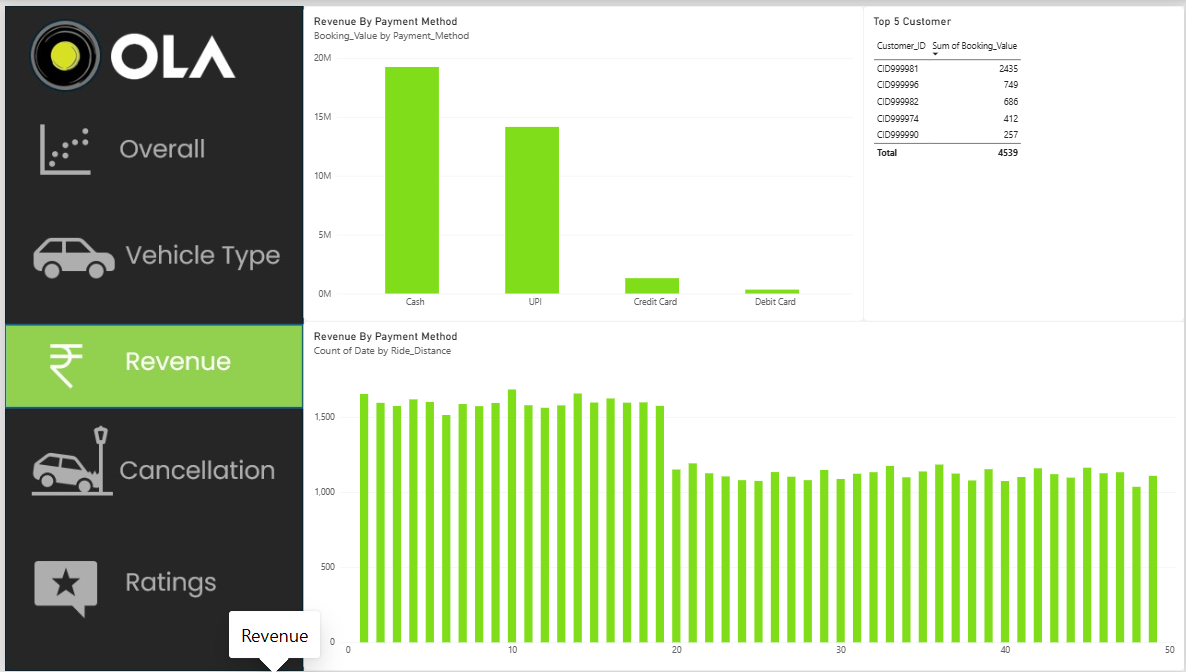

The dashboard page shown, as its layout file describes it:
{"tool":"powerbi","page":{"name":"Revenue","canvas":[1920,1080],"ordinal":2},"visuals":[{"type":"columnChart","title":"Revenue By Payment Method","fields":{"Category":["July.Payment_Method"],"Y":["Sum(July.Booking_Value)"]},"box":[484.3,0,911.4,513],"z":0},{"type":"columnChart","title":"Revenue By Payment Method","fields":{"Category":["July.Ride_Distance"],"Y":["CountNonNull(July.Date)"]},"box":[484.3,513,1436.3,567.8],"z":1000},{"type":"tableEx","title":"Top 5 Customer","fields":{"Values":["July.Customer_ID","Sum(July.Booking_Value)"]},"box":[1395.8,0,524.9,513],"z":2000}]}

Visuals, with their boxes on the page's 1920x1080 design canvas (x1, y1, x2, y2). These are canvas units, not pixel positions in the 1186x672 screenshot, which may show the page scaled, cropped or inside an application window:
"Revenue By Payment Method" columnChart: 484, 0, 1396, 513
"Revenue By Payment Method" columnChart: 484, 513, 1921, 1081
"Top 5 Customer" tableEx: 1396, 0, 1921, 513
